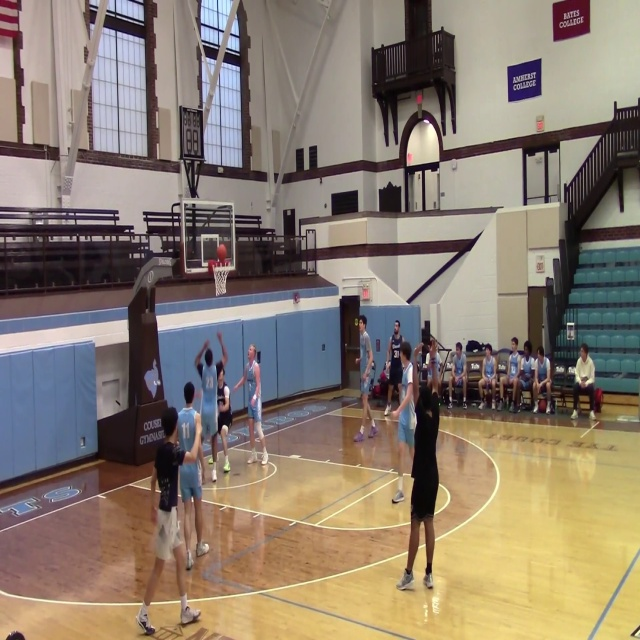Basketball: (216, 244, 227, 260)
